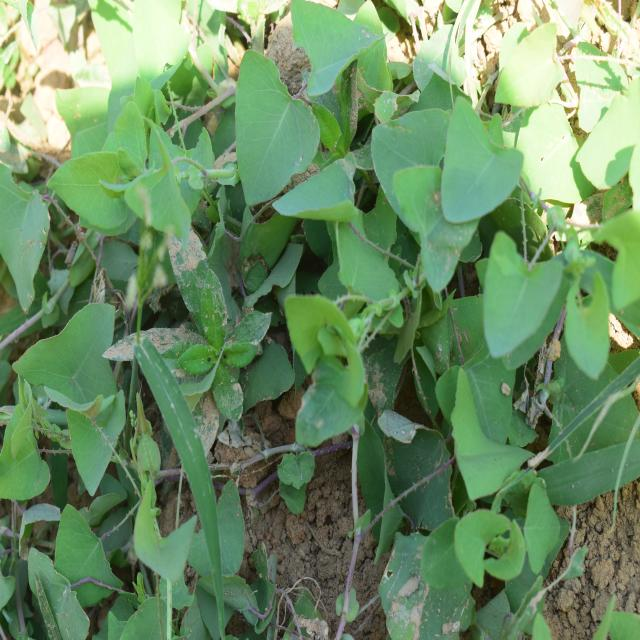Asiatic_Smartweed: (231, 8, 441, 261), (444, 97, 634, 370), (58, 88, 200, 236)
